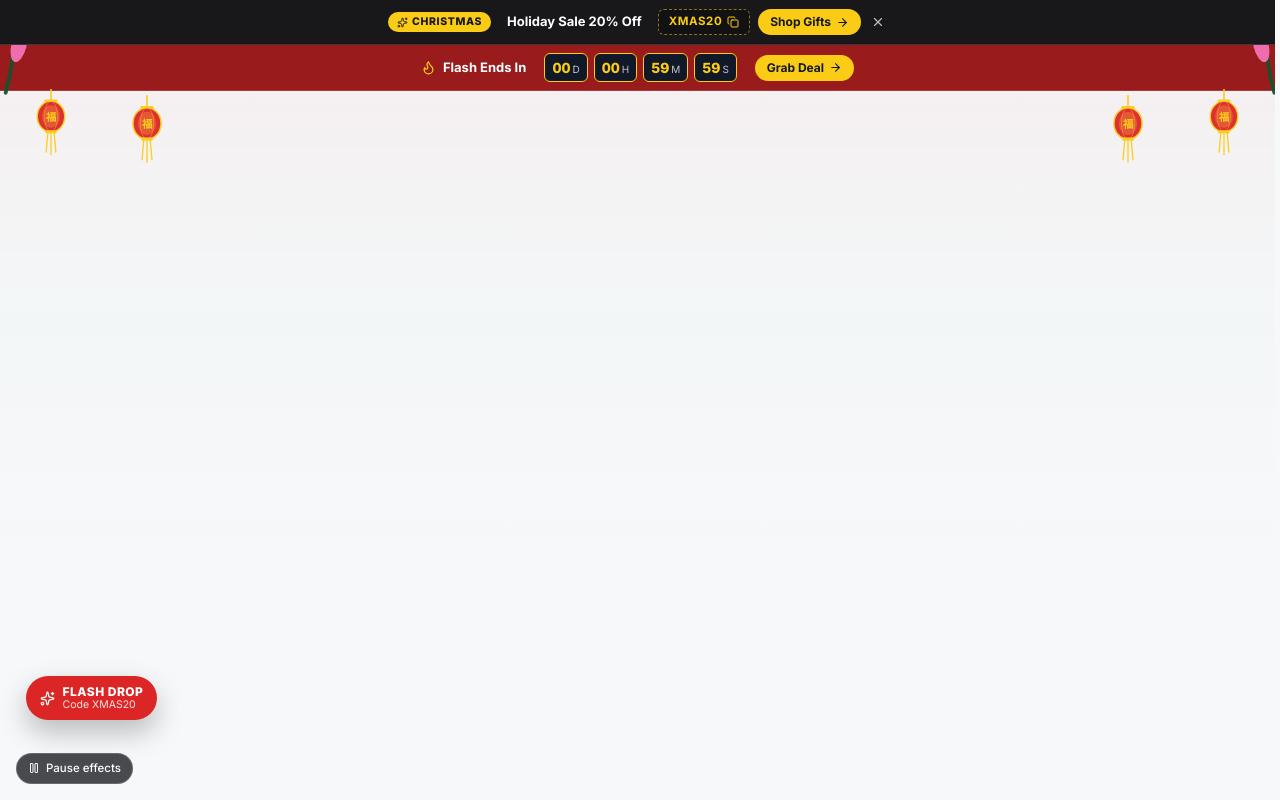
Test: ExperienceRuntime storefront slots and overlays › renders all slotted components, copyable promo code, countdown timer, and shopper pause toggle
The image size is (1280, 800).
Expected: the text "Holiday Sale 20% Off" is shown, [507,12,642,32]
Click the button titled "Copy promo code" at x=704, y=22, box [658,9,750,35]
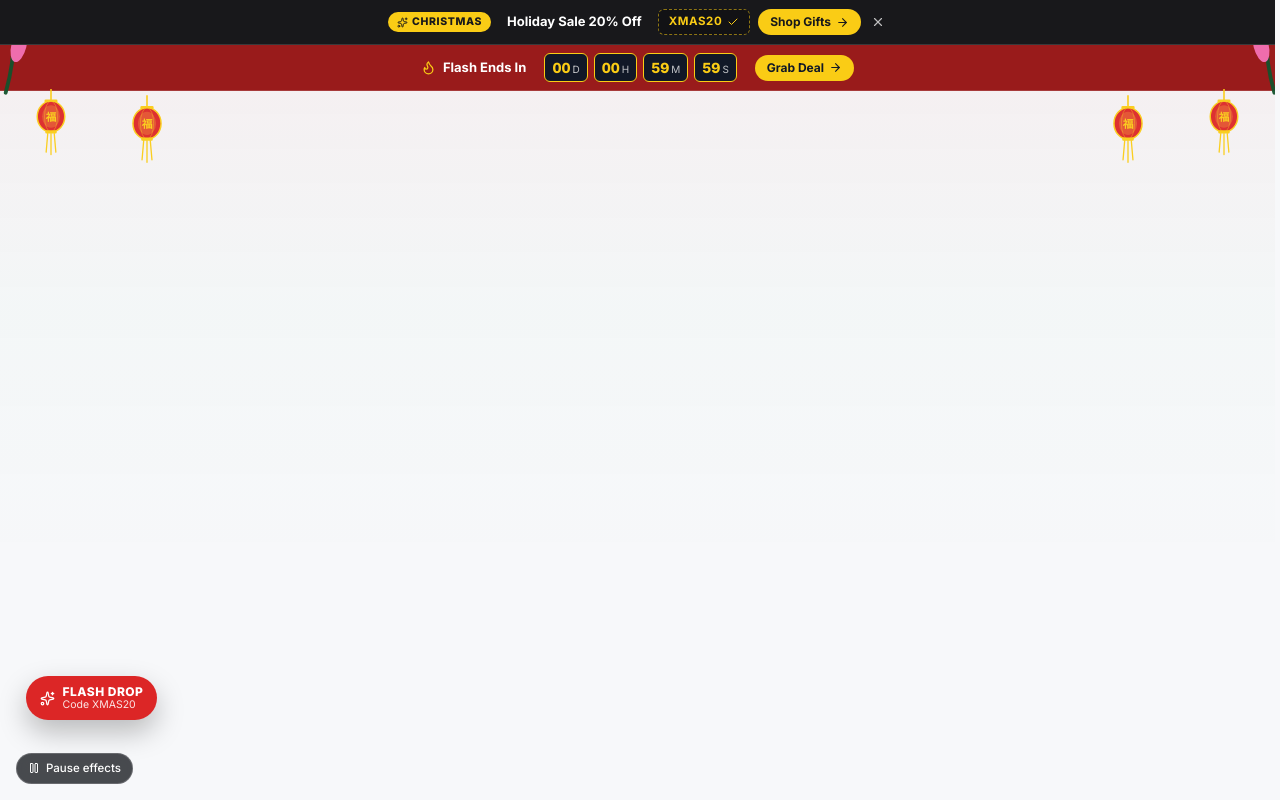
Expected: the element showing "Flash Ends In 00 D 00 H 59 M 59 S Grab Deal" is shown, [0,45,1275,91]
Expected: the text "Flash Ends In" is shown, [443,58,526,77]
Click the button "Pause effects" at x=74, y=768, box [16,753,133,784]
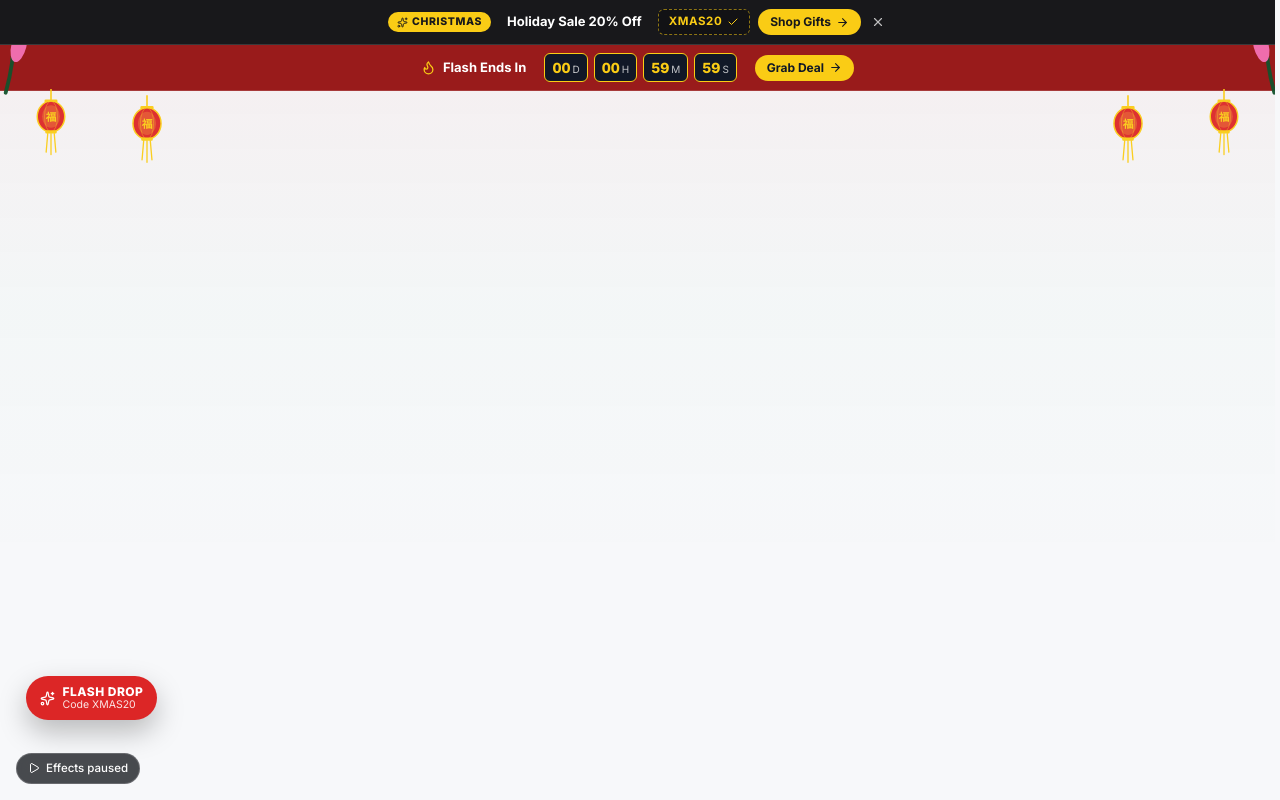
Result: the drawing with class "exp-particle-canvas" is gone
Result: the text "Effects paused" is shown at [46,760,128,777]
# Dismiss promo banner
Click the button named "Dismiss promotional banner" at x=878, y=22, box [869,13,887,31]
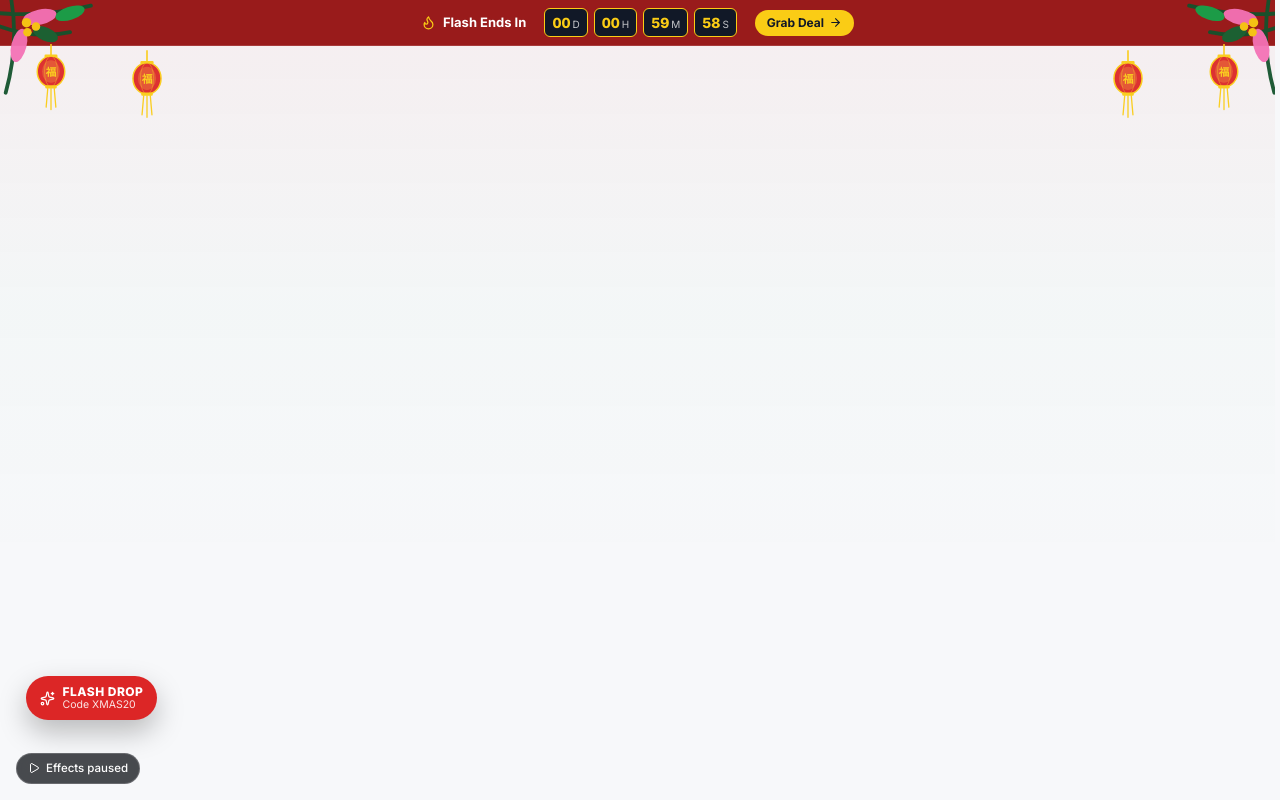
Result: the text "Holiday Sale 20% Off" is gone
